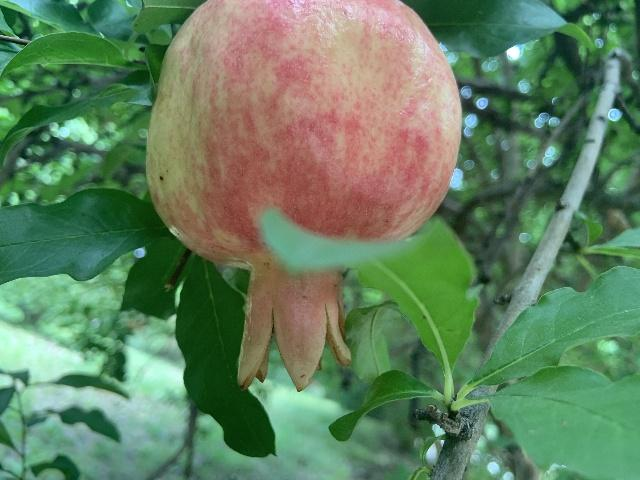ripe: (146, 0, 461, 390)
